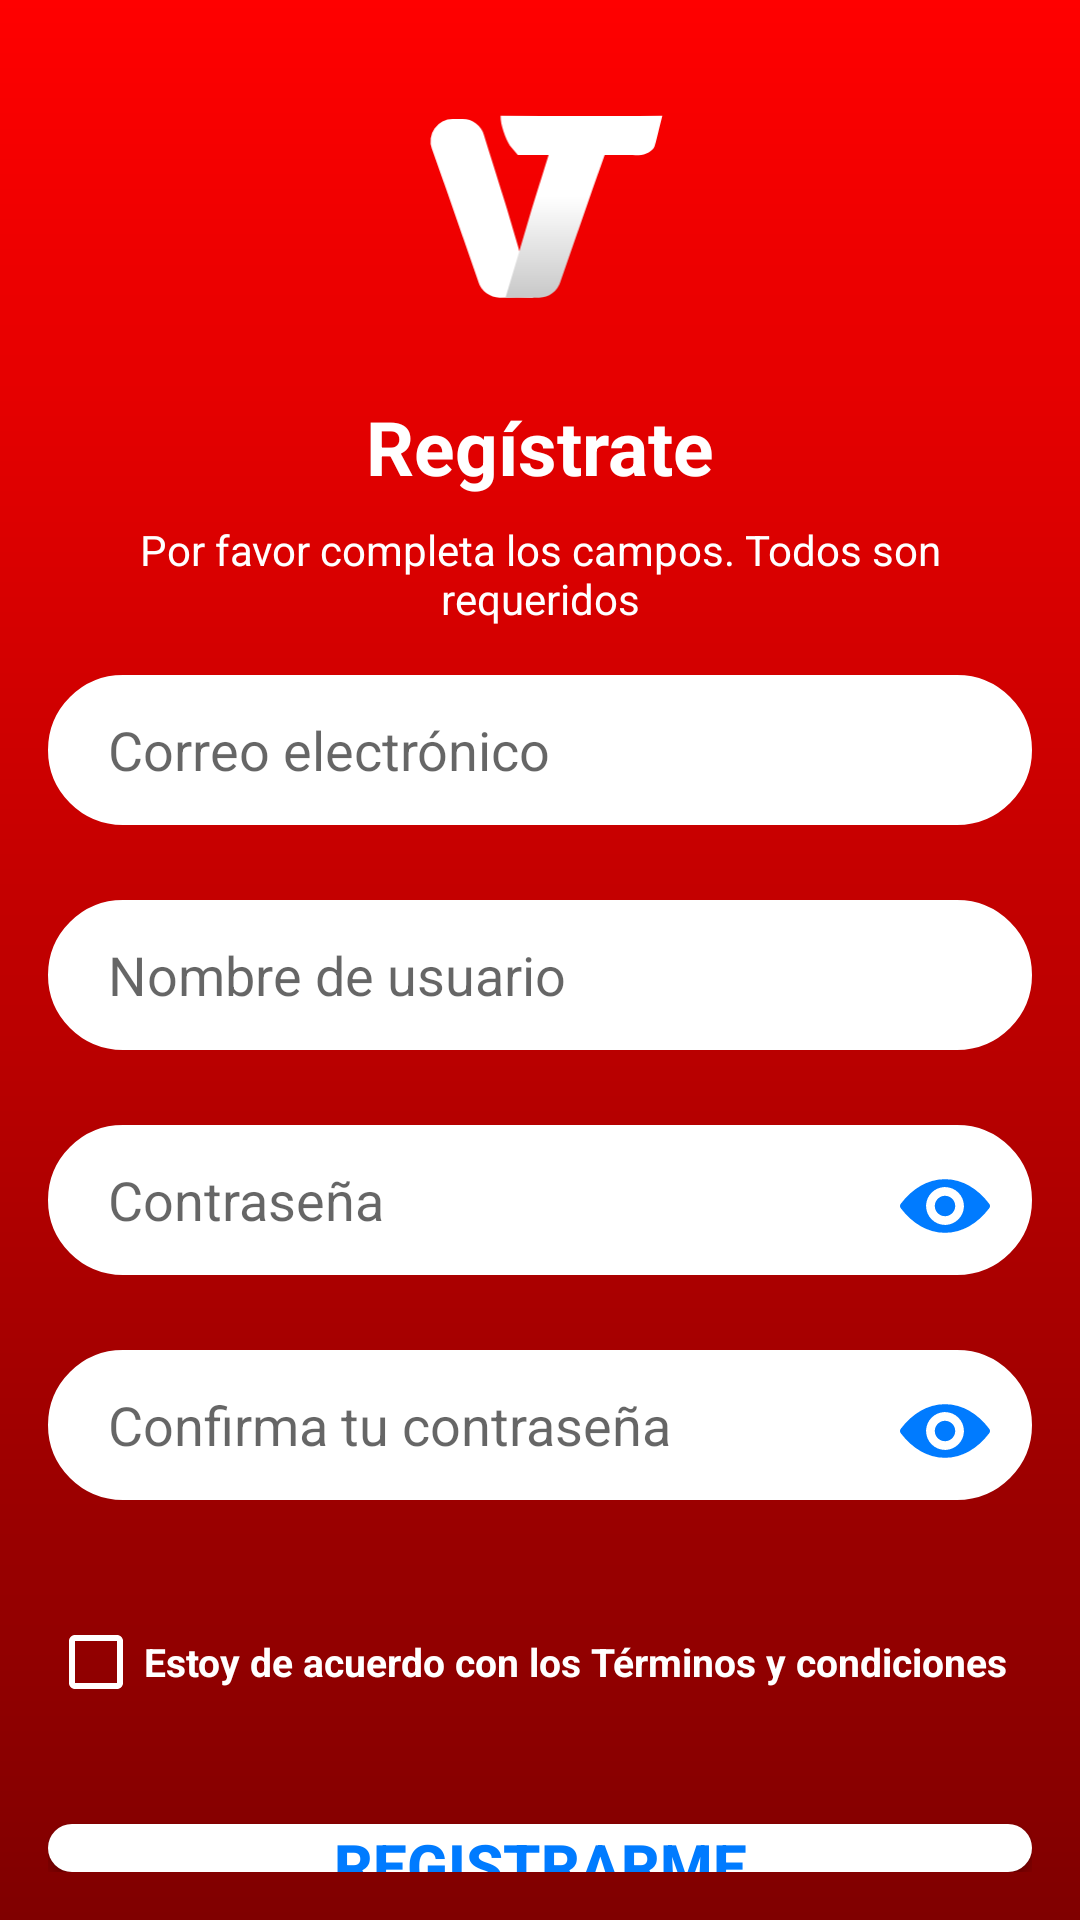

Icons on this 1080×1920 Android screen, each with its box as [x1=x1, y1=y1, x2=x2, y2=y2]:
eye: [x1=900, y1=1179, x2=990, y2=1233], [x1=900, y1=1404, x2=990, y2=1458]
